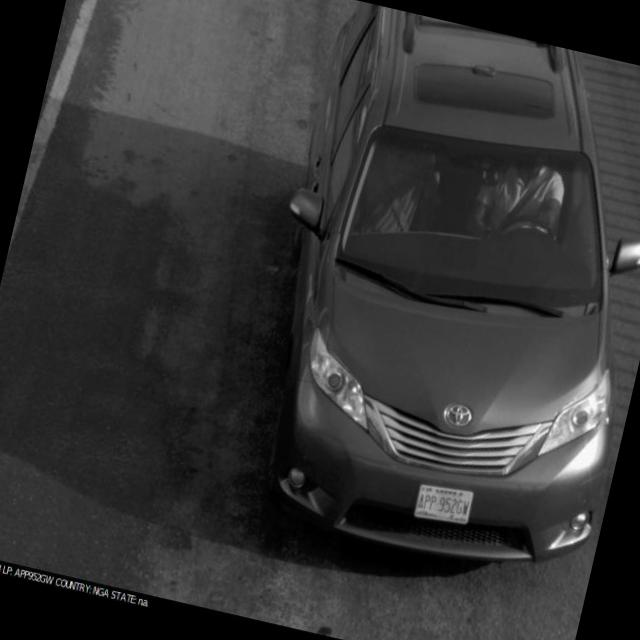person_with_seatbelt: (458, 136, 590, 278)
